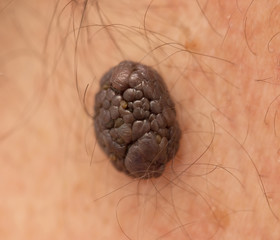melanoma: (73, 49, 200, 184)
